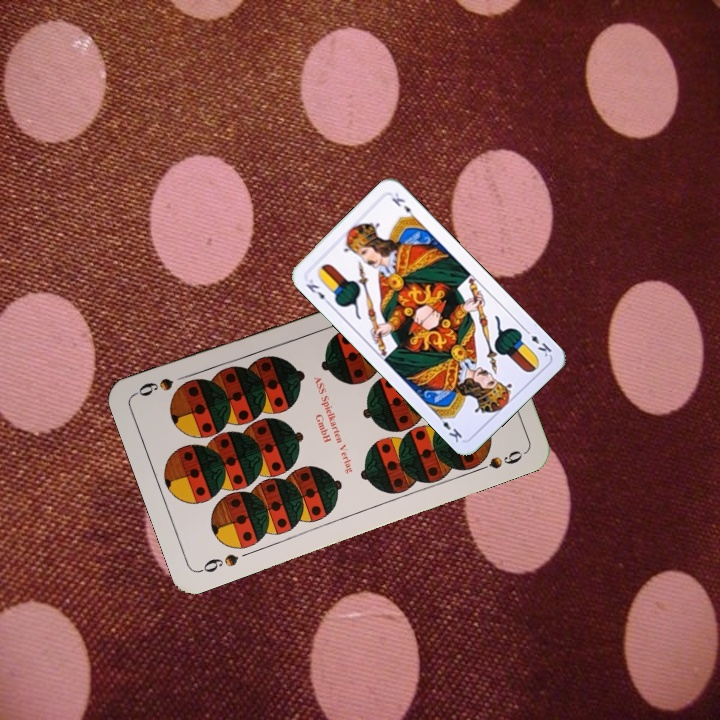EK: (520, 325, 554, 359), (302, 275, 333, 308)
S9: (195, 549, 241, 575)
